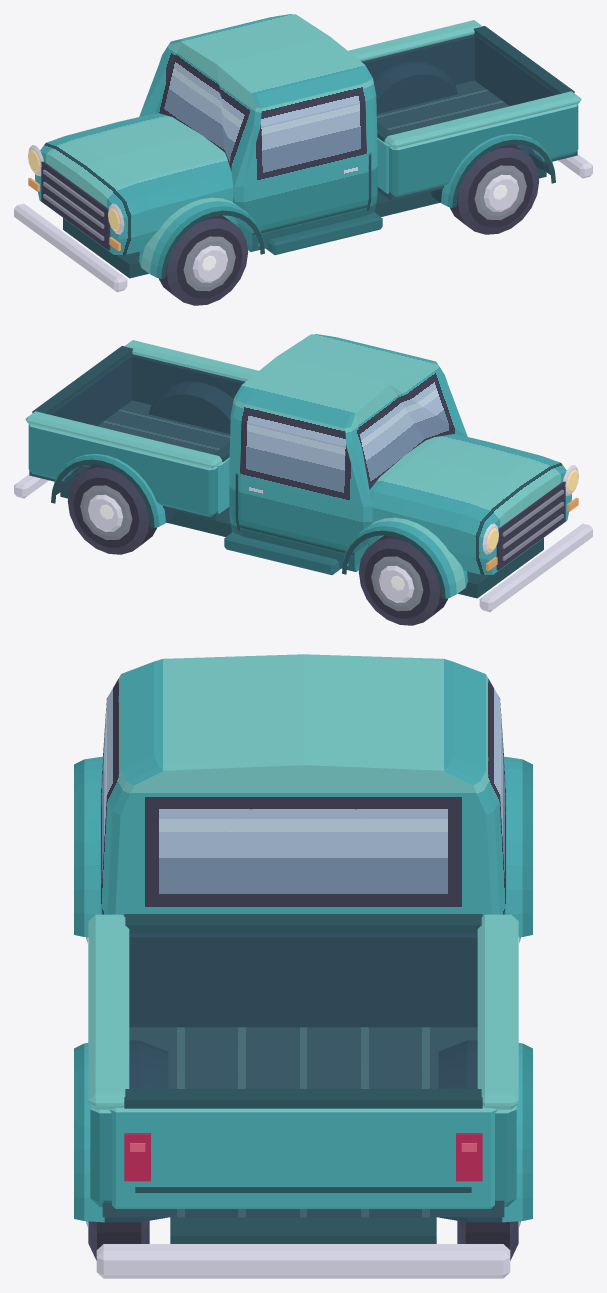
3 renders of one model, top to bottom at view 1: azimuth 30°, elevation 25°; view 2: azimuth 150°, elevation 25°; view 3: azimuth 270°, elevation 25°, orthographic. The views are drawn at different scales.
Parts seen in each view (by area): view 1: Body_static, Wheel_FL_tire_hub, Wheel_RL_tire_hub; view 2: Body_static, Wheel_FR_tire_hub, Wheel_RR_tire_hub; view 3: Body_static, Wheel_RL_tire_hub, Wheel_RR_tire_hub.
Part boxes in pixels (x1,y1,x2,y2): Body_static: (14,14,592,292); Wheel_FL_tire_hub: (158,215,248,305); Wheel_RL_tire_hub: (449,144,539,234); Body_static: (14,334,592,612); Wheel_FR_tire_hub: (358,535,448,625); Wheel_RR_tire_hub: (67,464,157,554); Body_static: (74,654,532,1278); Wheel_RL_tire_hub: (86,1220,149,1260); Wheel_RR_tire_hub: (457,1220,520,1260).
Bounding box in the file's own units: 93.91 × 35.13 × 38.96.
Materials: 1 (1 with a texture image).
